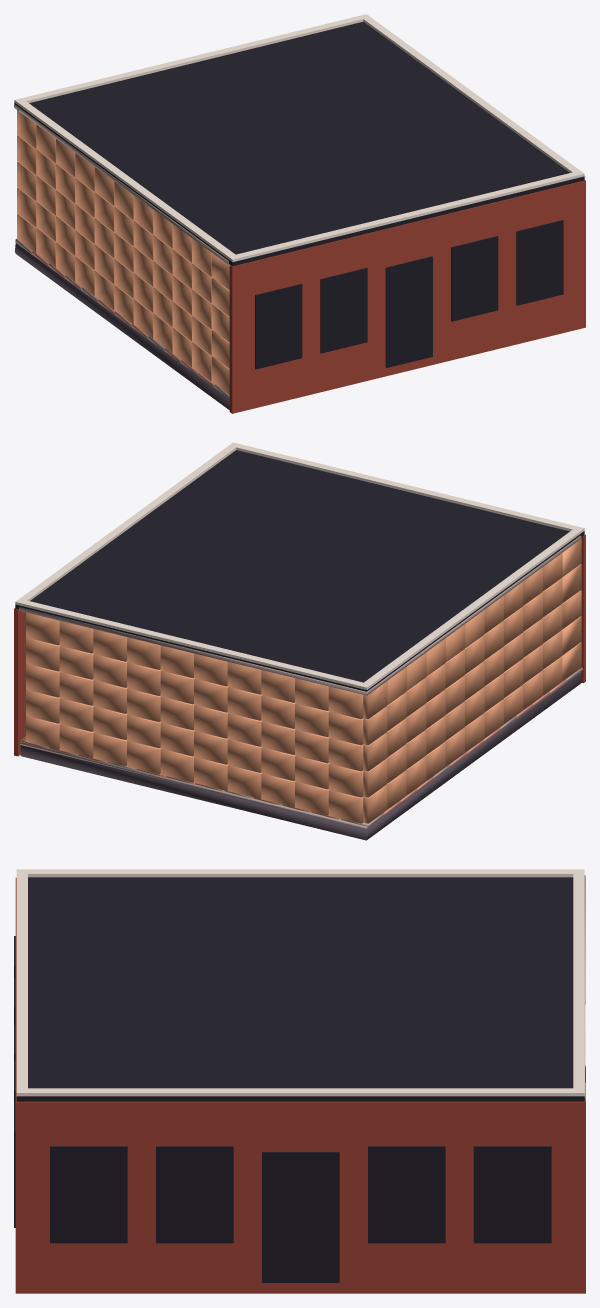
File: bld.supermarket.lod1.glb
The picture shows the model from 3 angles, top to bottom: view 1: azimuth 30°, elevation 25°; view 2: azimuth 150°, elevation 25°; view 3: azimuth 270°, elevation 25°; orthographic projection. The views are drawn at different scales.
Visible parts, largest first — view 1: roof, interior; view 2: interior, roof; view 3: roof.
Part boxes in pixels (x1,y1,x2,y2): roof: (14, 14, 585, 413); interior: (14, 104, 229, 409); interior: (19, 535, 582, 840); roof: (14, 442, 585, 756); roof: (14, 869, 585, 1293).
Size of the model in its own units: 8.53 by 3.53 by 9.14.
